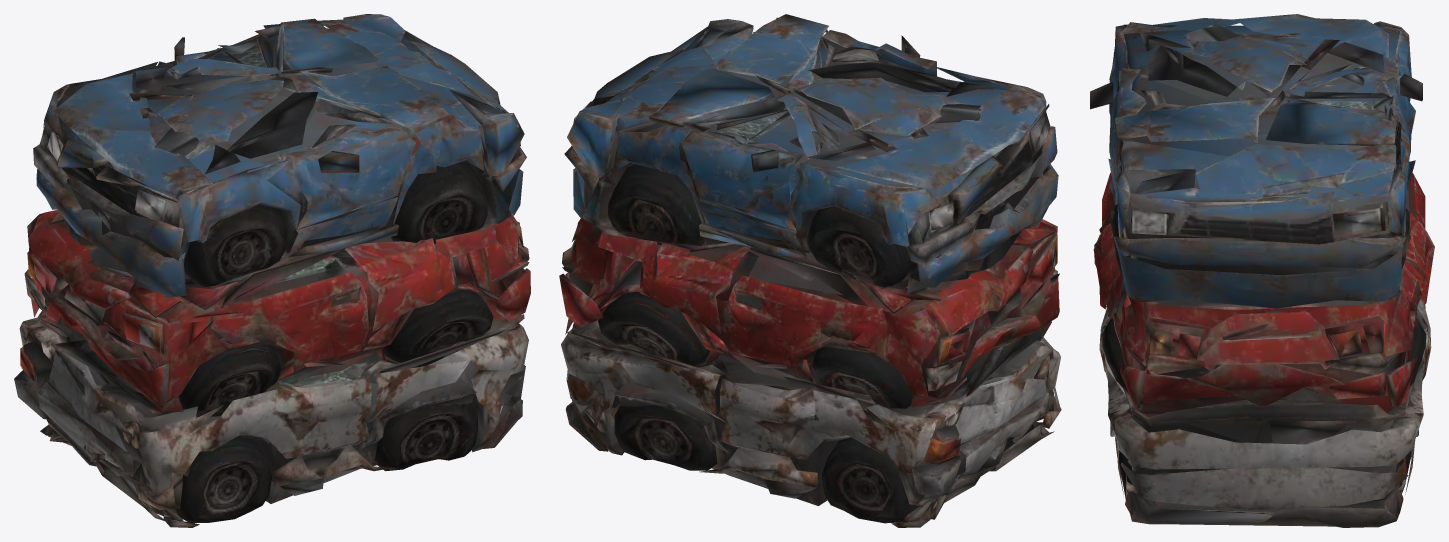
File: crushed_cars_press.glb
The picture shows the model from 3 angles, left to right: view 1: azimuth 30°, elevation 25°; view 2: azimuth 150°, elevation 25°; view 3: azimuth 270°, elevation 25°; orthographic projection. The views are drawn at different scales.
Visible parts, largest first — view 1: Meshy_AI_crushed_cars_press_3d_20261028_texture; view 2: Meshy_AI_crushed_cars_press_3d_20261028_texture; view 3: Meshy_AI_crushed_cars_press_3d_20261028_texture.
Part boxes in pixels (bbox=[...]): Meshy_AI_crushed_cars_press_3d_20261028_texture: bbox=[14, 14, 530, 527]; Meshy_AI_crushed_cars_press_3d_20261028_texture: bbox=[559, 14, 1061, 527]; Meshy_AI_crushed_cars_press_3d_20261028_texture: bbox=[1090, 14, 1434, 527].
Bounding box in the file's own units: 6 × 5.14 × 4.36.
1 material, 1 textured.
